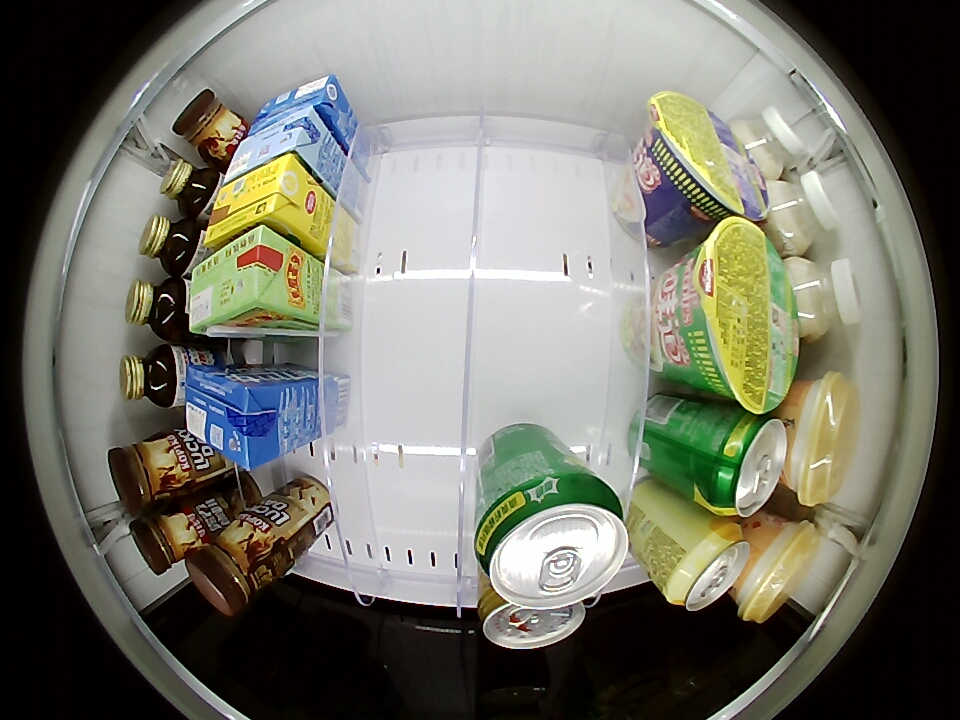heweidao: (645, 91, 770, 224)
heweidao2: (675, 218, 801, 414)
hongniu2: (478, 592, 587, 649)
libaojian: (118, 344, 185, 409), (124, 277, 188, 341), (137, 214, 201, 277), (160, 158, 220, 218)
lujikafei: (186, 520, 284, 615), (108, 431, 184, 510), (128, 504, 202, 576), (172, 89, 242, 165)
mangguoxiaolao: (662, 521, 752, 612)
wanglaoji: (186, 225, 297, 336)
weitanai: (185, 367, 284, 469), (251, 74, 346, 132)
weitanaiditang: (223, 107, 325, 183)
weitaningmeng: (203, 154, 309, 253)
weiweidounai: (763, 170, 841, 255), (787, 256, 862, 340), (733, 107, 806, 180)
xuebi2: (475, 471, 630, 609), (696, 411, 788, 518)
youlemei: (784, 371, 858, 506), (736, 515, 821, 623)
